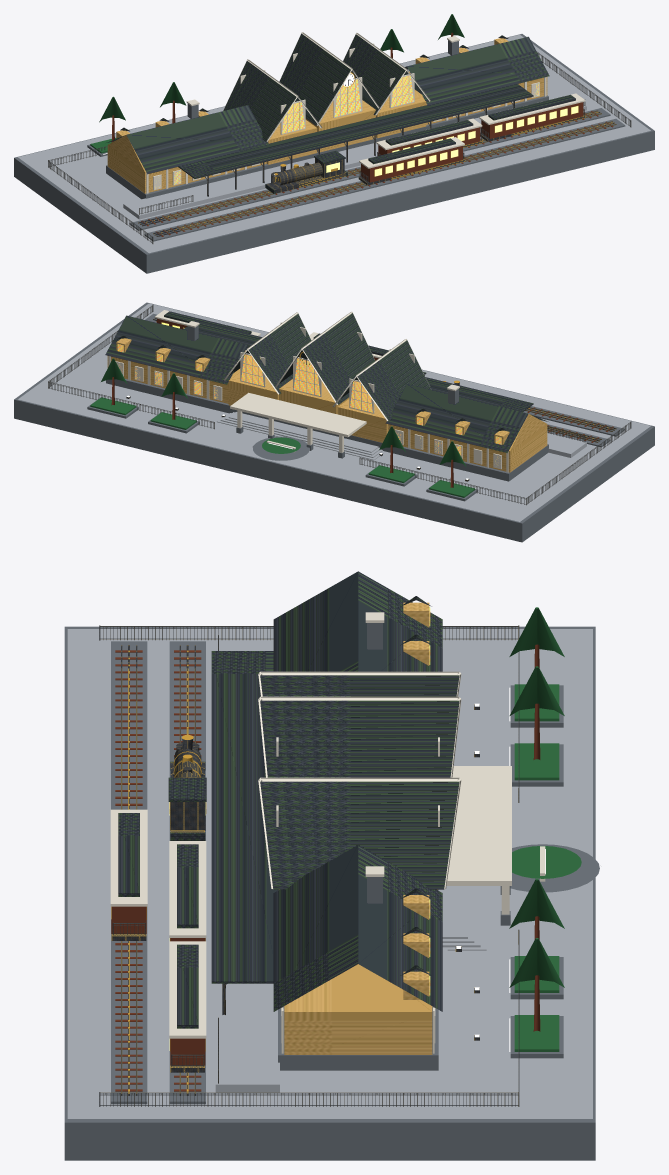
The model's file is ultra_lm_02_ga_da_lat.glb.
The picture shows the model from 3 angles, top to bottom: view 1: azimuth 30°, elevation 25°; view 2: azimuth 150°, elevation 25°; view 3: azimuth 270°, elevation 25°; orthographic projection. The views are drawn at different scales.
Parts seen in each view (by area): view 1: Three_Langbiang_Peaks_Roof_1024PBR, Foundation_Skirt_And_Stone_Plinth, DewWet_Forecourt_And_CogRailway_Platform, CogRailway_AbtTrack_And_JNR_C12_Locomotive_1024PBR, ArtDeco_Ochre_Walls_66p5m_1024PBR, Normandy_Gable_Trim_And_Canopy, Heritage_Dalat_TraiMat_Wooden_Coaches, Normandy_StainedGlass_Windows_1024PBR_Blend085, Forecourt_Floral_Parterres_And_Pines, Interior_TicketHall_And_Coach_Glow, Yersin_Clock_And_Locomotive_Brass; view 2: DewWet_Forecourt_And_CogRailway_Platform, Three_Langbiang_Peaks_Roof_1024PBR, Foundation_Skirt_And_Stone_Plinth, Normandy_Gable_Trim_And_Canopy, ArtDeco_Ochre_Walls_66p5m_1024PBR, CogRailway_AbtTrack_And_JNR_C12_Locomotive_1024PBR, Forecourt_Floral_Parterres_And_Pines, Normandy_StainedGlass_Windows_1024PBR_Blend085, Heritage_Dalat_TraiMat_Wooden_Coaches; view 3: DewWet_Forecourt_And_CogRailway_Platform, Three_Langbiang_Peaks_Roof_1024PBR, Foundation_Skirt_And_Stone_Plinth, Normandy_Gable_Trim_And_Canopy, ArtDeco_Ochre_Walls_66p5m_1024PBR, CogRailway_AbtTrack_And_JNR_C12_Locomotive_1024PBR, Forecourt_Floral_Parterres_And_Pines, Heritage_Dalat_TraiMat_Wooden_Coaches.
Boxes of the visible parts, box(x1,y1,x2,y2) form: Three_Langbiang_Peaks_Roof_1024PBR: box(106, 33, 575, 193); Foundation_Skirt_And_Stone_Plinth: box(14, 34, 654, 273); DewWet_Forecourt_And_CogRailway_Platform: box(18, 34, 650, 253); CogRailway_AbtTrack_And_JNR_C12_Locomotive_1024PBR: box(48, 52, 631, 243); ArtDeco_Ochre_Walls_66p5m_1024PBR: box(107, 37, 547, 193); Normandy_Gable_Trim_And_Canopy: box(146, 32, 585, 193); Heritage_Dalat_TraiMat_Wooden_Coaches: box(111, 32, 613, 236); Normandy_StainedGlass_Windows_1024PBR_Blend085: box(155, 75, 539, 188); Forecourt_Floral_Parterres_And_Pines: box(90, 14, 464, 153); Interior_TicketHall_And_Coach_Glow: box(326, 106, 578, 176); Yersin_Clock_And_Locomotive_Brass: box(146, 72, 611, 232); DewWet_Forecourt_And_CogRailway_Platform: box(18, 303, 650, 521); Three_Langbiang_Peaks_Roof_1024PBR: box(105, 311, 548, 452); Foundation_Skirt_And_Stone_Plinth: box(14, 302, 654, 542); Normandy_Gable_Trim_And_Canopy: box(108, 310, 508, 472); ArtDeco_Ochre_Walls_66p5m_1024PBR: box(107, 338, 547, 472); CogRailway_AbtTrack_And_JNR_C12_Locomotive_1024PBR: box(48, 305, 631, 505); Forecourt_Floral_Parterres_And_Pines: box(90, 358, 475, 497); Normandy_StainedGlass_Windows_1024PBR_Blend085: box(117, 344, 501, 461); Heritage_Dalat_TraiMat_Wooden_Coaches: box(111, 318, 613, 487); DewWet_Forecourt_And_CogRailway_Platform: box(67, 629, 592, 1118); Three_Langbiang_Peaks_Roof_1024PBR: box(118, 571, 459, 1028); Foundation_Skirt_And_Stone_Plinth: box(64, 623, 599, 1160); Normandy_Gable_Trim_And_Canopy: box(110, 612, 545, 1053); ArtDeco_Ochre_Walls_66p5m_1024PBR: box(279, 602, 437, 1054); CogRailway_AbtTrack_And_JNR_C12_Locomotive_1024PBR: box(99, 625, 519, 1106); Forecourt_Floral_Parterres_And_Pines: box(509, 607, 581, 1051); Heritage_Dalat_TraiMat_Wooden_Coaches: box(111, 644, 540, 1091).
Size of the model in its own units: 84 by 17.02 by 38.6.
12 materials, 4 textured.
